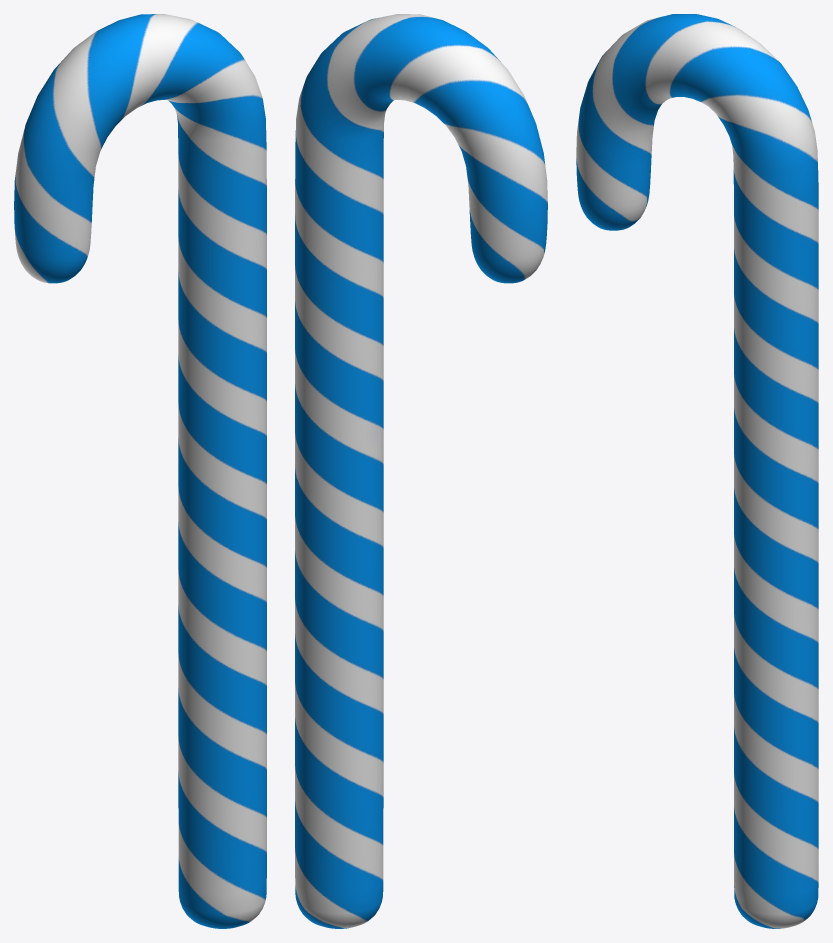
The model's file is ccb.glb.
3 renders of one model, left to right at view 1: azimuth 30°, elevation 25°; view 2: azimuth 150°, elevation 25°; view 3: azimuth 330°, elevation 25°, orthographic. The views are drawn at different scales.
Parts seen in each view (by area): view 1: candy; view 2: candy; view 3: candy.
Part boxes in pixels (x1,y1,x2,y2): candy: [14, 14, 266, 928]; candy: [295, 14, 547, 928]; candy: [576, 14, 818, 928].
Bounding box in the file's own units: 192 × 700 × 60.92.
1 material, 1 textured.
